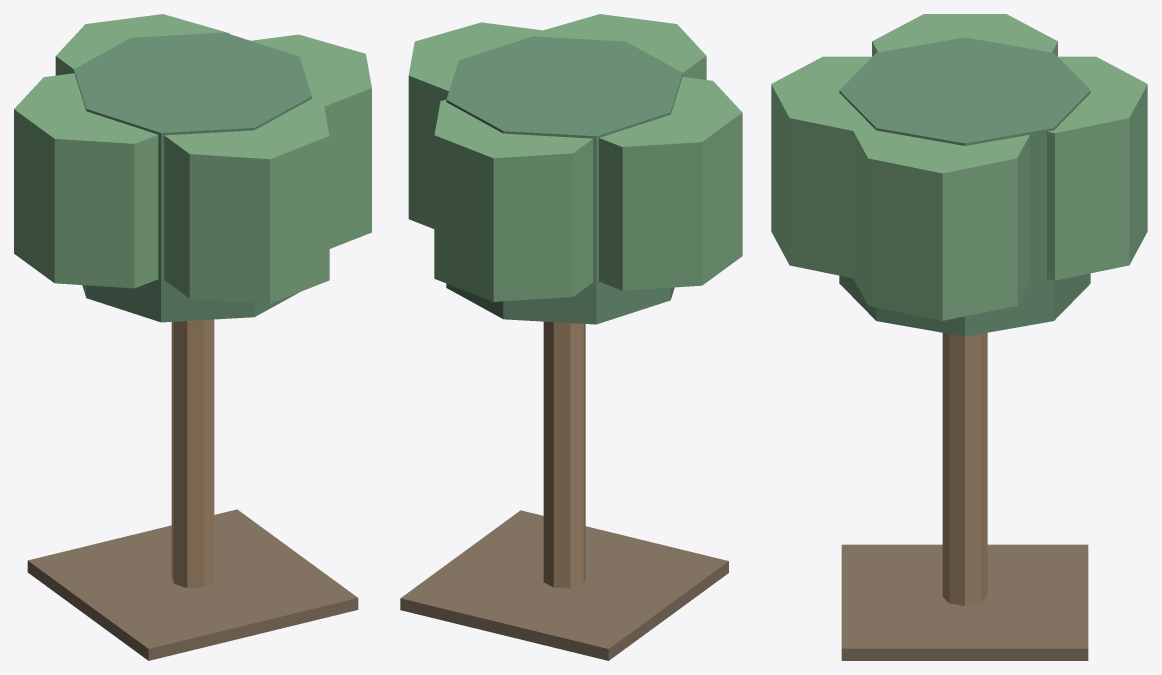
File: town_street_tree.glb
3 views of the same model, side by side, from view 1: azimuth 30°, elevation 25°; view 2: azimuth 150°, elevation 25°; view 3: azimuth 270°, elevation 25° (orthographic). The views are drawn at different scales.
Visible parts, largest first — view 1: leaf cluster.003, protected tree pit, leaf cluster, central leafy canopy, living tree trunk, leaf cluster.001, leaf cluster.002; view 2: leaf cluster.002, protected tree pit, leaf cluster, central leafy canopy, living tree trunk, leaf cluster.001, leaf cluster.003; view 3: leaf cluster.001, central leafy canopy, protected tree pit, leaf cluster.002, leaf cluster.003, living tree trunk, leaf cluster.
Part boxes in pixels (bbox=[...]): leaf cluster.003: bbox=[164, 99, 329, 303]; protected tree pit: bbox=[27, 509, 358, 660]; leaf cluster: bbox=[14, 73, 158, 288]; central leafy canopy: bbox=[74, 32, 311, 322]; living tree trunk: bbox=[171, 319, 214, 587]; leaf cluster.001: bbox=[251, 34, 371, 248]; leaf cluster.002: bbox=[55, 14, 229, 75]; leaf cluster.002: bbox=[434, 99, 593, 301]; protected tree pit: bbox=[400, 510, 728, 660]; leaf cluster: bbox=[599, 77, 742, 290]; central leafy canopy: bbox=[446, 36, 682, 324]; living tree trunk: bbox=[543, 321, 585, 588]; leaf cluster.001: bbox=[408, 22, 562, 228]; leaf cluster.003: bbox=[533, 14, 706, 79]; leaf cluster.001: bbox=[850, 117, 1029, 320]; central leafy canopy: bbox=[839, 37, 1090, 336]; protected tree pit: bbox=[841, 544, 1088, 660]; leaf cluster.002: bbox=[1047, 56, 1147, 280]; leaf cluster.003: bbox=[771, 56, 875, 278]; living tree trunk: bbox=[942, 332, 987, 605]; leaf cluster: bbox=[872, 14, 1057, 56].
Size of the model in its own units: 3.37 by 5.1 by 3.36.
